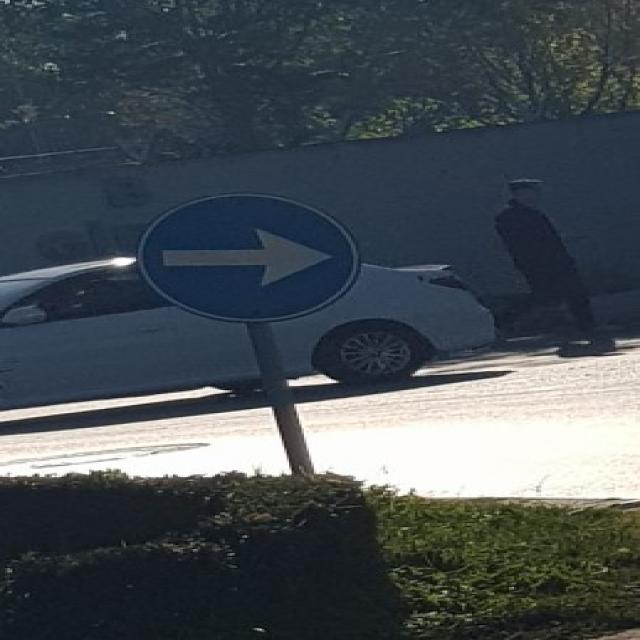Turn Right: (139, 194, 367, 327)
